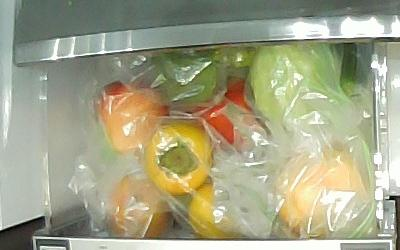apple_vinyl: (95, 79, 170, 152)
broccoli_vinyl: (151, 47, 256, 104)
grapefruit_vinyl: (276, 149, 367, 236)
lettuce_vinyl: (248, 41, 343, 118)
paprika_vinyl: (192, 77, 253, 146)
peach_vinyl: (105, 173, 173, 238)
persimmon_vinyl: (144, 124, 210, 194), (187, 186, 236, 237)
